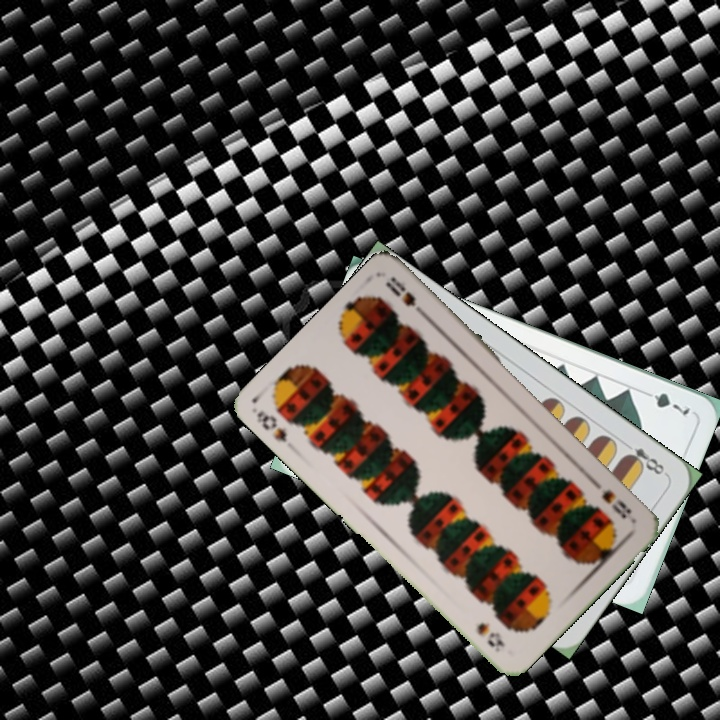E8: (619, 438, 670, 479)
G7: (637, 386, 693, 418)
S8: (598, 485, 638, 525), (252, 406, 290, 445)
